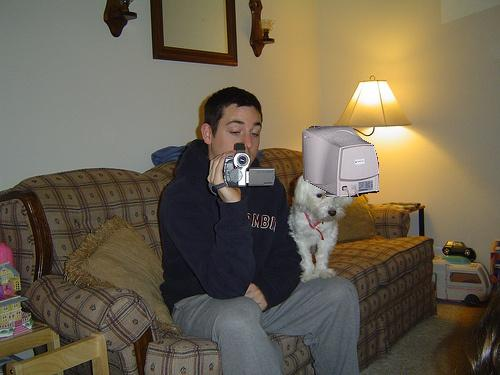tampered: (303, 127, 379, 197)
